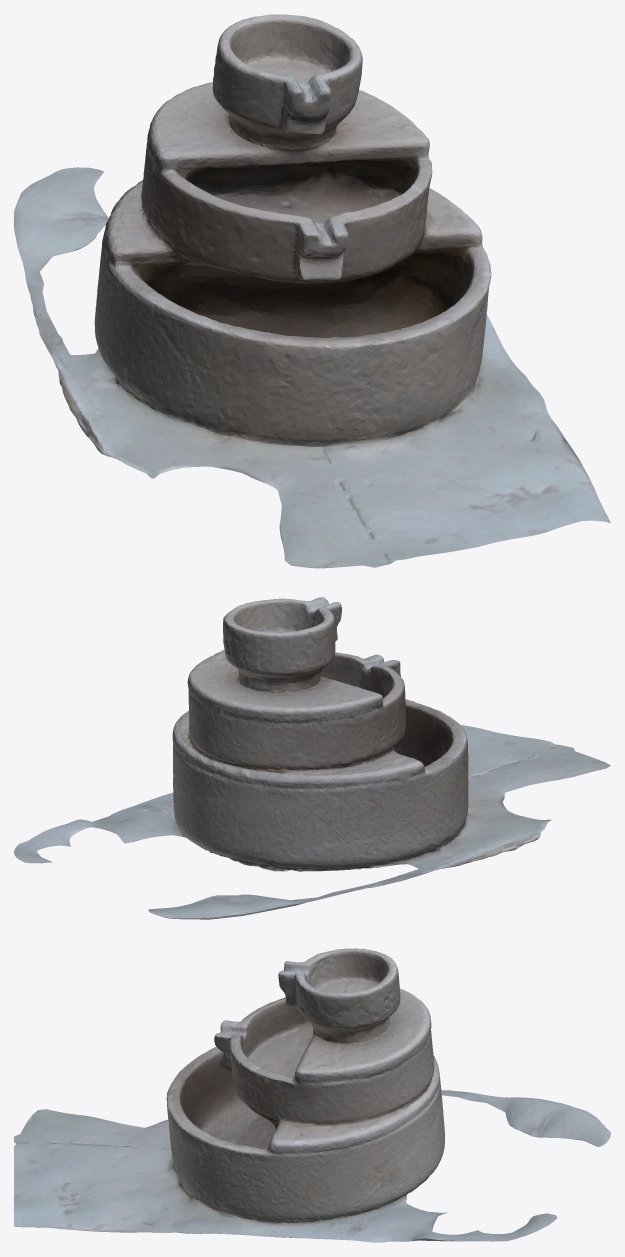
File: tabletopFountain.glb
3 views of the same model, one above another, from view 1: azimuth 30°, elevation 25°; view 2: azimuth 150°, elevation 25°; view 3: azimuth 270°, elevation 25° (orthographic). The views are drawn at different scales.
Size of the model in its own units: 0.9476 by 0.6077 by 1.41.
1 material, 1 textured.
